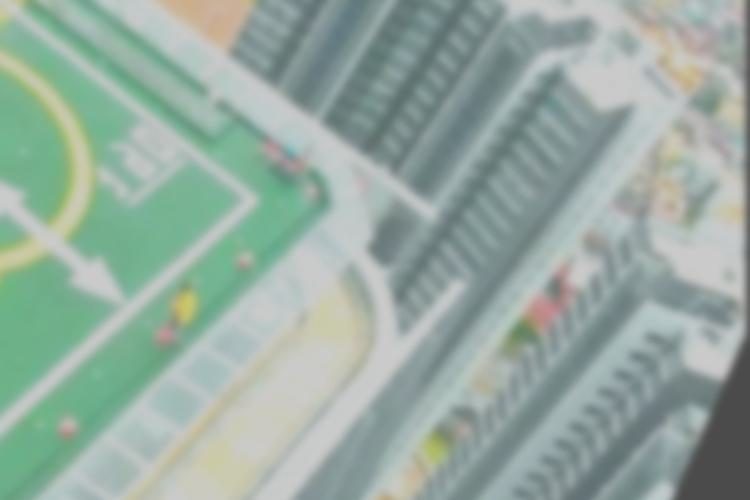Apron: (1, 55, 117, 288)
